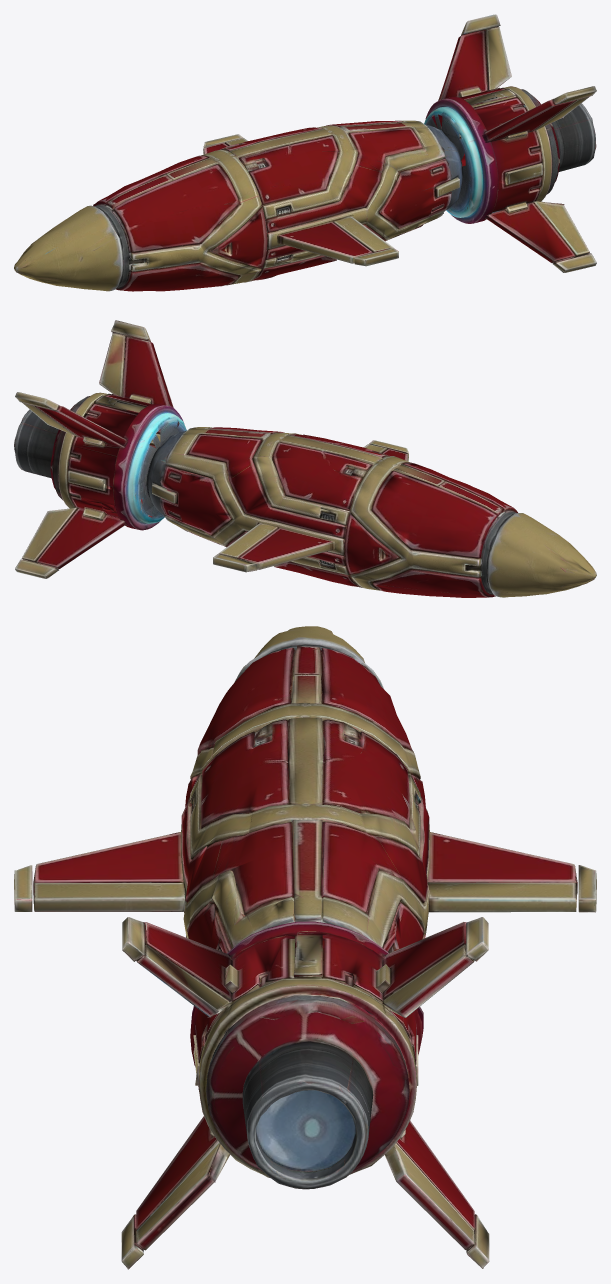
The model's file is micro_missile.glb.
The picture shows the model from 3 angles, top to bottom: view 1: azimuth 30°, elevation 25°; view 2: azimuth 150°, elevation 25°; view 3: azimuth 270°, elevation 25°; orthographic projection. The views are drawn at different scales.
Size of the model in its own units: 0.9497 by 0.2891 by 0.4683.
1 material, 1 textured.
